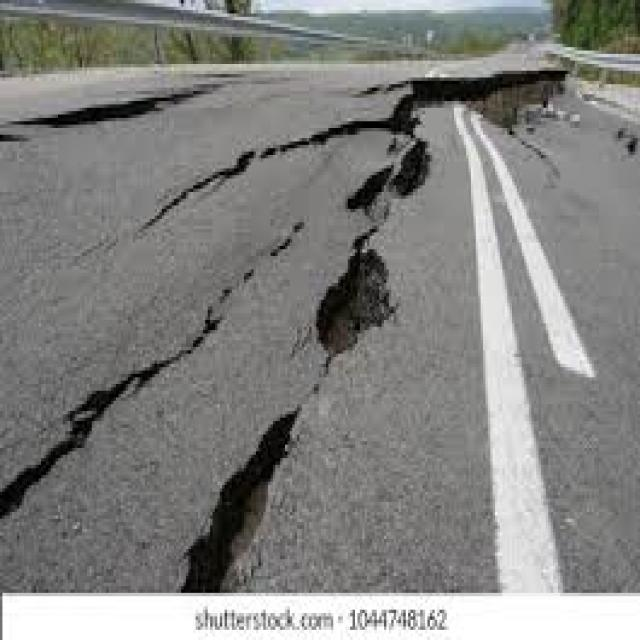Earthquake: (130, 47, 640, 504)
